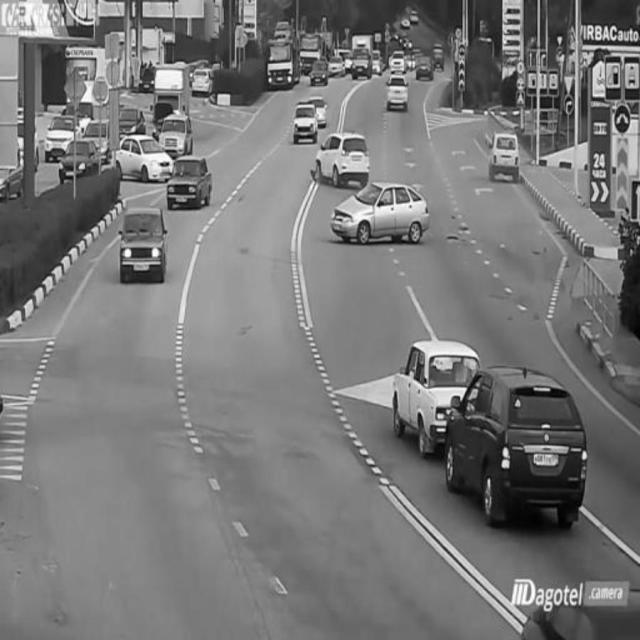vehicle: (445, 369, 591, 523), (386, 335, 480, 451), (331, 183, 429, 241), (117, 202, 168, 283), (115, 130, 176, 184), (313, 133, 373, 187), (167, 155, 214, 210), (52, 138, 103, 183), (486, 131, 523, 185), (267, 31, 305, 83), (288, 97, 324, 145), (44, 112, 72, 162), (385, 67, 411, 114), (348, 45, 378, 80), (191, 65, 215, 97), (413, 46, 435, 80)
